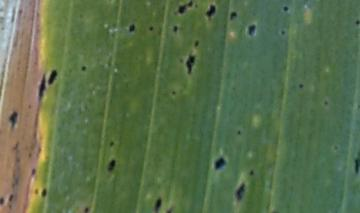tarspot: (39, 73, 47, 100), (185, 53, 195, 73), (236, 183, 245, 201), (8, 112, 17, 129), (48, 70, 57, 86), (208, 1, 216, 18), (154, 198, 163, 213), (215, 158, 226, 170), (107, 159, 117, 172), (228, 10, 238, 21), (247, 23, 256, 35), (177, 4, 186, 15), (354, 157, 360, 173), (127, 22, 135, 33), (40, 188, 48, 198), (28, 167, 37, 175), (172, 25, 180, 34), (322, 98, 330, 107), (7, 193, 14, 201), (170, 89, 177, 97), (108, 140, 115, 148), (235, 128, 242, 136), (187, 1, 194, 8), (297, 82, 304, 89), (178, 57, 185, 64), (249, 168, 255, 176), (280, 27, 285, 36), (81, 65, 87, 72), (282, 6, 288, 13), (84, 205, 89, 213), (33, 189, 39, 195), (194, 41, 200, 47), (167, 208, 173, 213), (149, 26, 154, 31), (1, 197, 4, 205), (355, 20, 360, 24)
